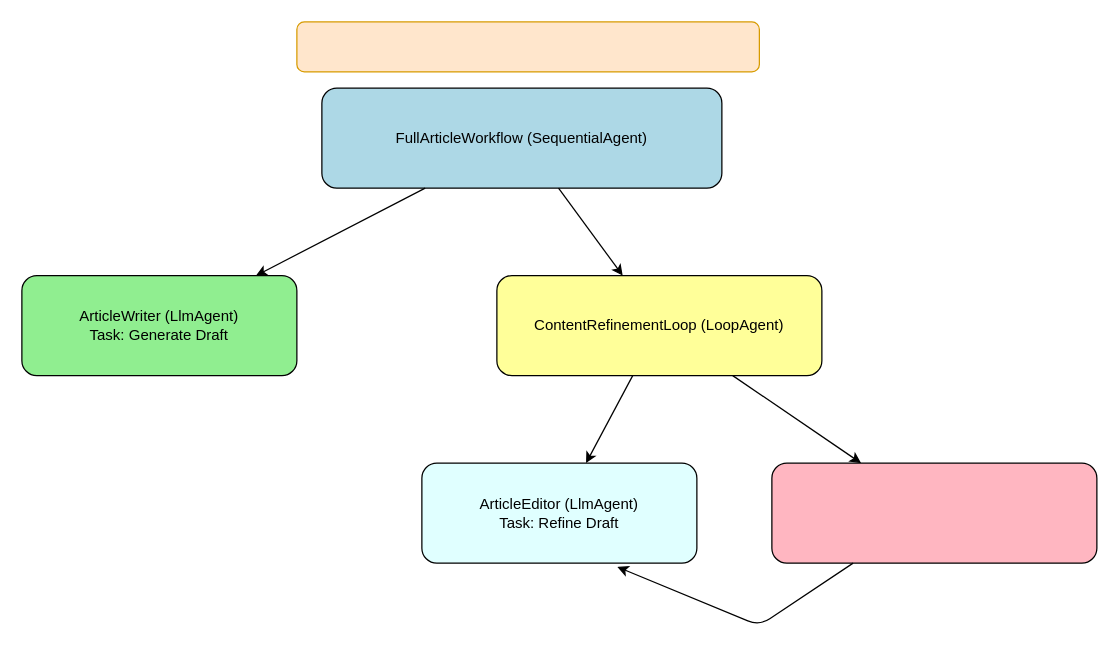
The diagram is 1119 pixels wide and 658 high, and some of its shapes have lost their labels. Each missing label, with the centre of its shape:
"ArticleCritic (LlmAgent) Task: Critique Draft" goes at [934,512].
"Loop Agent" goes at [527,46].
